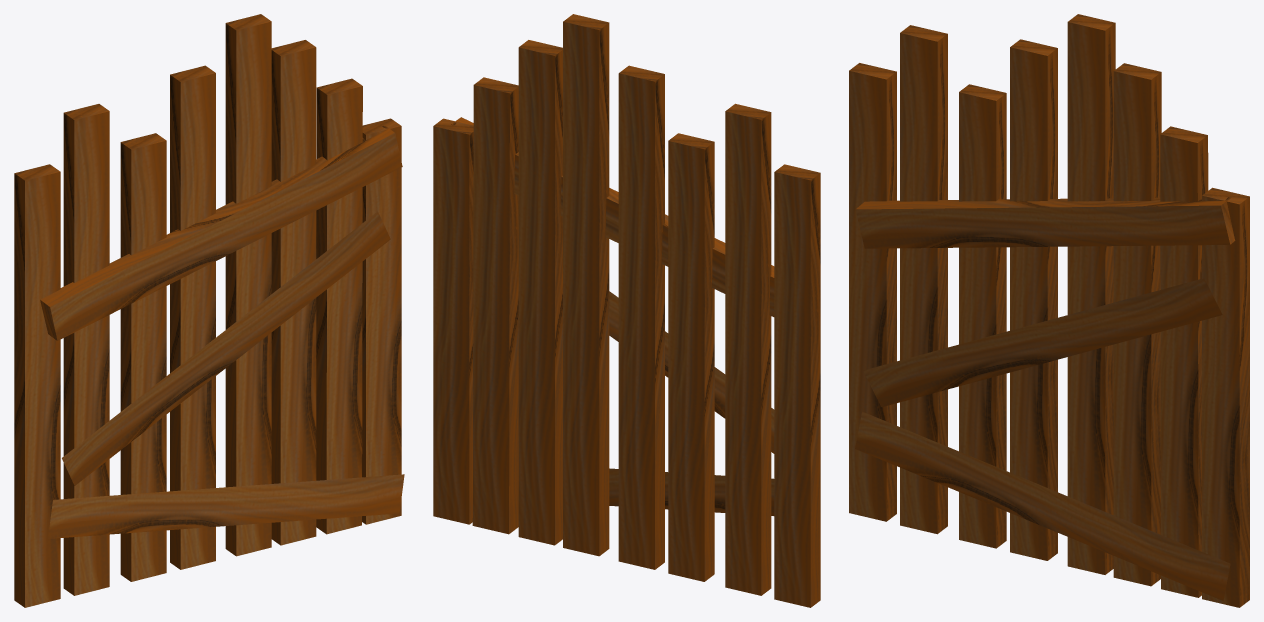
The model's file is PlanksDoor3.glb.
3 renders of one model, left to right at view 1: azimuth 30°, elevation 25°; view 2: azimuth 150°, elevation 25°; view 3: azimuth 330°, elevation 25°, orthographic. The views are drawn at different scales.
Visible parts, largest first — view 1: PlanksDoor3; view 2: PlanksDoor3; view 3: PlanksDoor3.
Part boxes in pixels (<box>): PlanksDoor3: <box>14,14,404,607</box>; PlanksDoor3: <box>433,14,820,607</box>; PlanksDoor3: <box>849,14,1249,607</box>.
Size of the model in its own units: 6.31 by 8.41 by 0.6457.
1 material, 1 textured.
